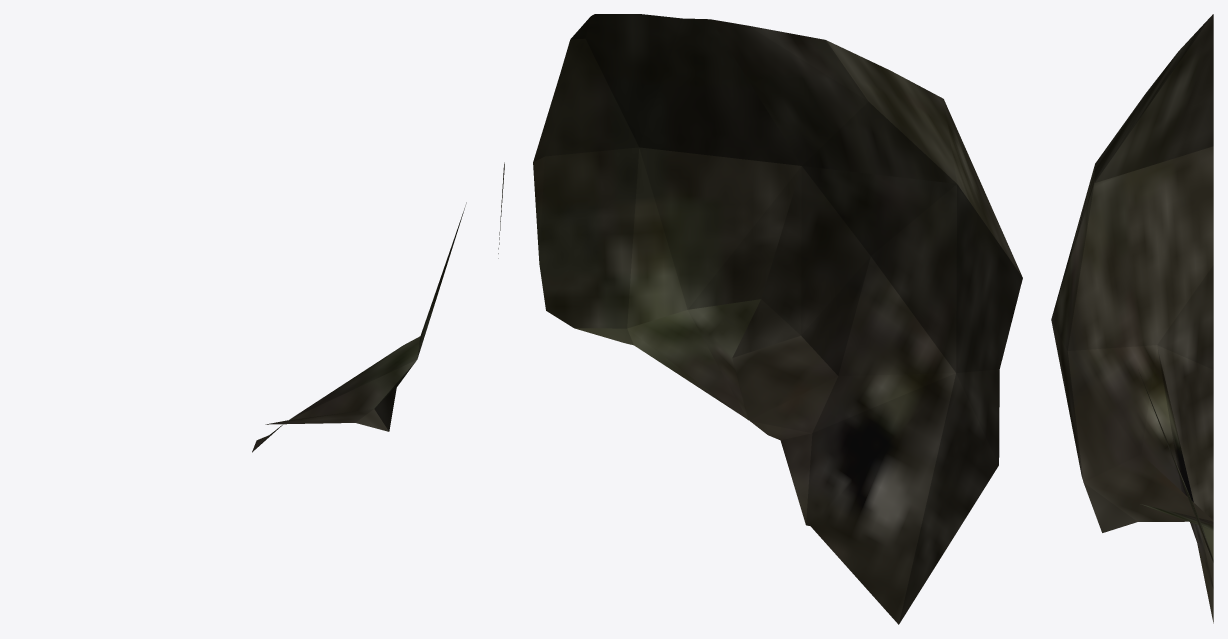
3 renders of one model, left to right at view 1: azimuth 30°, elevation 25°; view 2: azimuth 150°, elevation 25°; view 3: azimuth 270°, elevation 25°, orthographic. The views are drawn at different scales.
Bounding box in the file's own units: 0.7089 × 0.7422 × 0.1862.
1 material, 1 textured.
